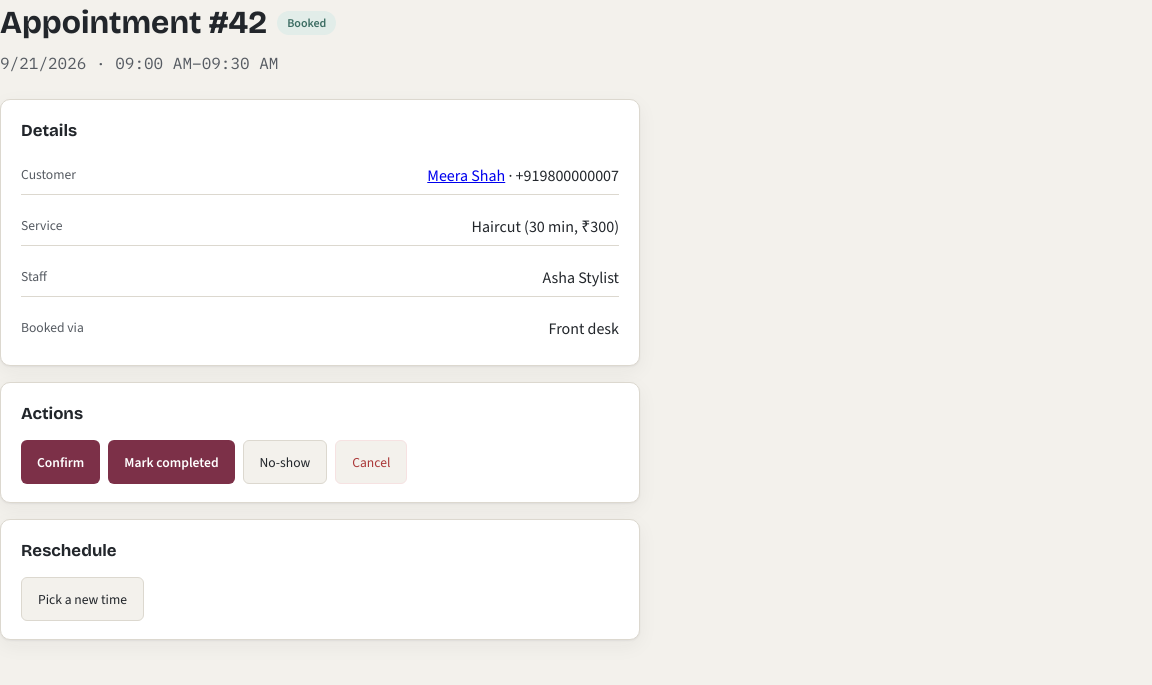
it: AppointmentDetailPage › shows an error and stays open when the picked slot was just taken
expect the link "Meera Shah" is shown: met, box [427,165,505,186]
Step 1. Click the button "Pick a new time" → (82, 599), box [21,577,144,621]
(page scrolled)
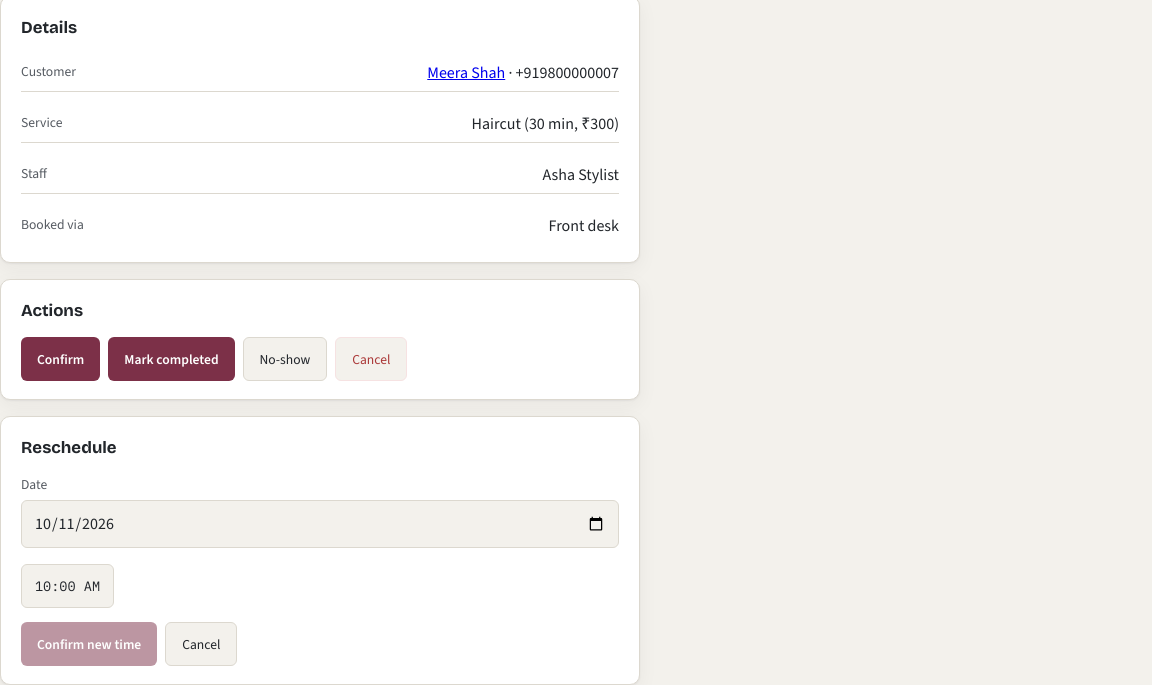
Step 2. Click the button "10:00 AM" → (68, 586), box [21,564,114,608]
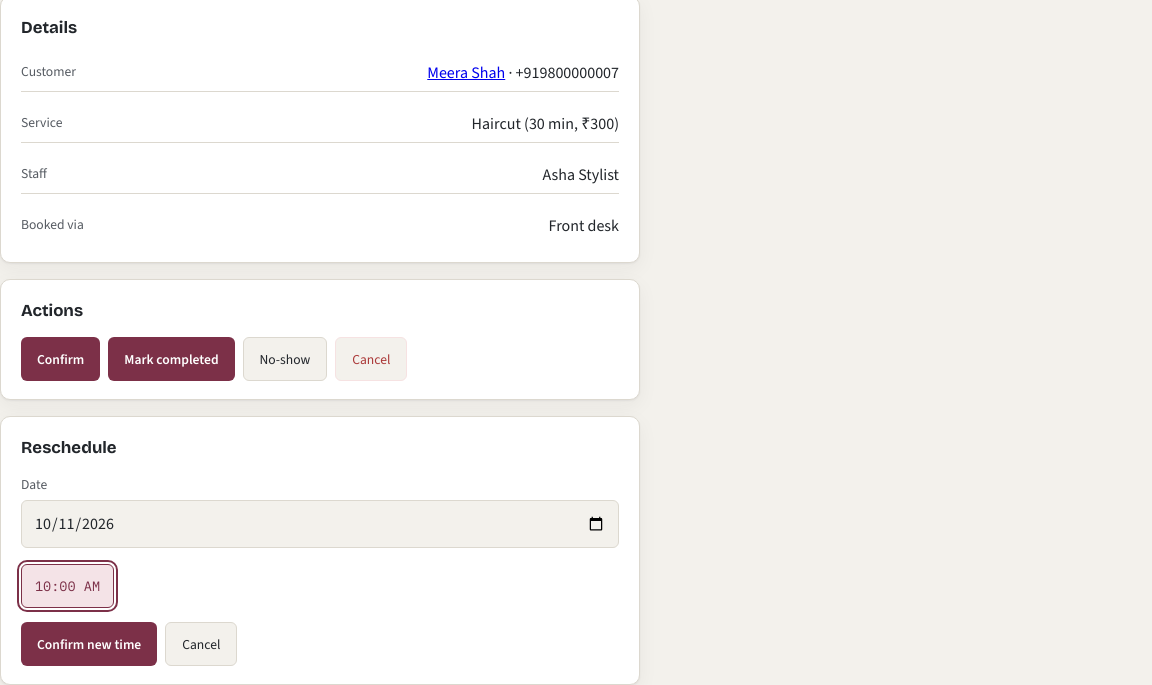
Step 3. Click the button "Confirm new time" → (89, 644), box [21,622,157,666]
(page scrolled)
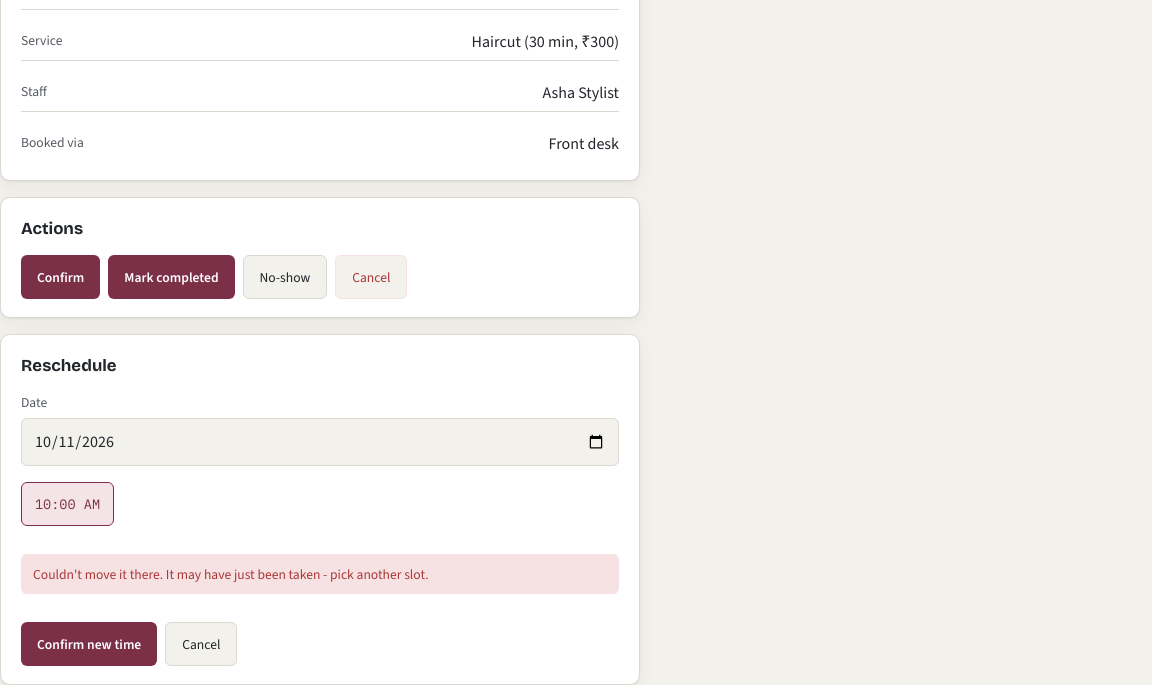
expect the button "Confirm new time" is shown: met, box [21,622,157,666]
expect the text "may have just been taken" is shown: met, box [33,565,428,583]
